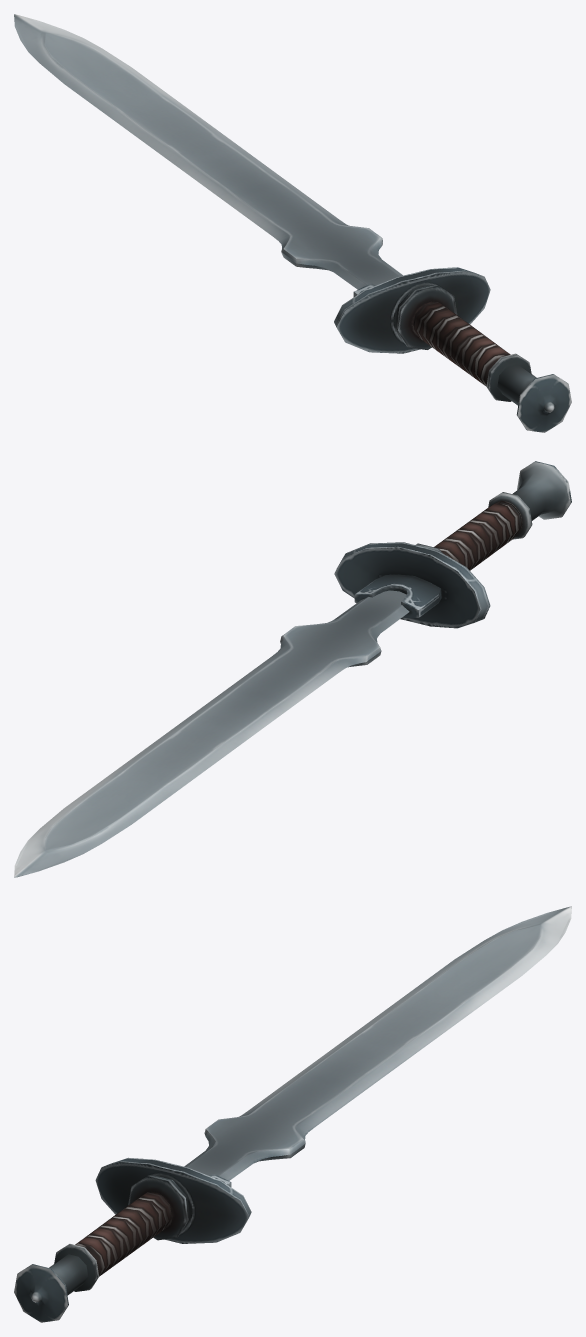
Rendered from Sword.FBX.
The picture shows the model from 3 angles, top to bottom: view 1: azimuth 30°, elevation 25°; view 2: azimuth 150°, elevation 25°; view 3: azimuth 330°, elevation 25°; orthographic projection.
Parts seen in each view (by area): view 1: Sword; view 2: Sword; view 3: Sword.
Boxes of the visible parts, x1=… form: Sword: x1=14, y1=14, x2=571, y2=432; Sword: x1=14, y1=461, x2=571, y2=877; Sword: x1=14, y1=906, x2=571, y2=1322.
Bounding box in the file's own units: 18.2 × 110 × 8.05.
